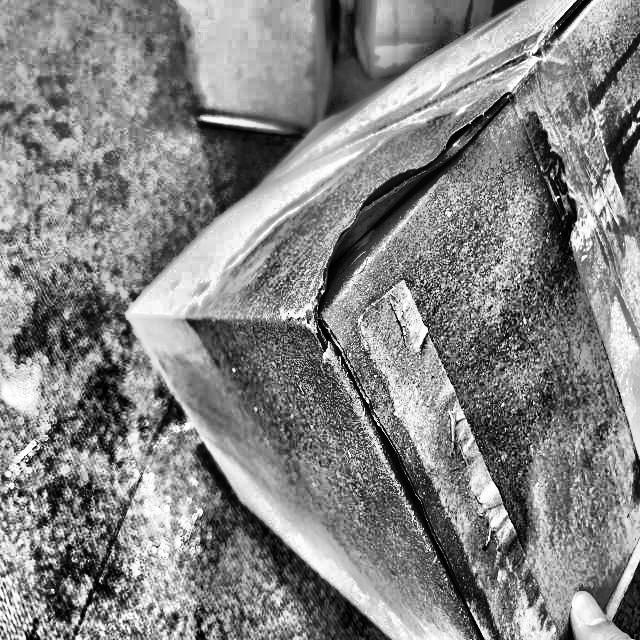box: (131, 0, 640, 640)
wet: (196, 93, 639, 639)
